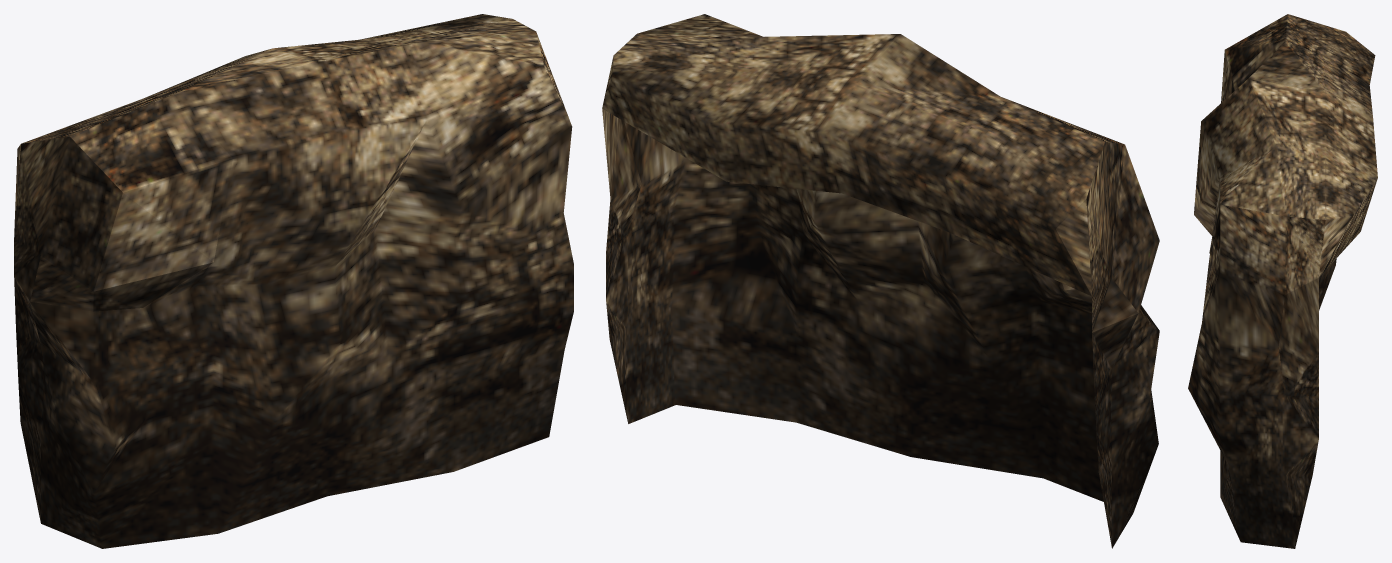
3 views of the same model, side by side, from view 1: azimuth 30°, elevation 25°; view 2: azimuth 150°, elevation 25°; view 3: azimuth 270°, elevation 25° (orthographic). The views are drawn at different scales.
Parts seen in each view (by area): view 1: SMDImport; view 2: SMDImport; view 3: SMDImport.
Boxes of the visible parts, bbox=[...] form: SMDImport: bbox=[14, 14, 573, 548]; SMDImport: bbox=[602, 14, 1159, 548]; SMDImport: bbox=[1188, 14, 1377, 548].
Size of the model in its own units: 1196 by 943 by 441.
